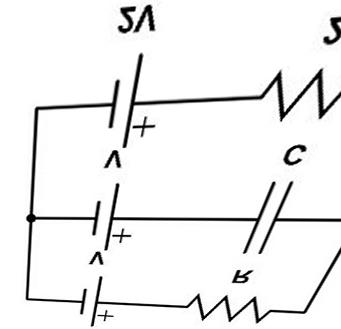resistor: (251, 51, 340, 135), (184, 277, 275, 325)
